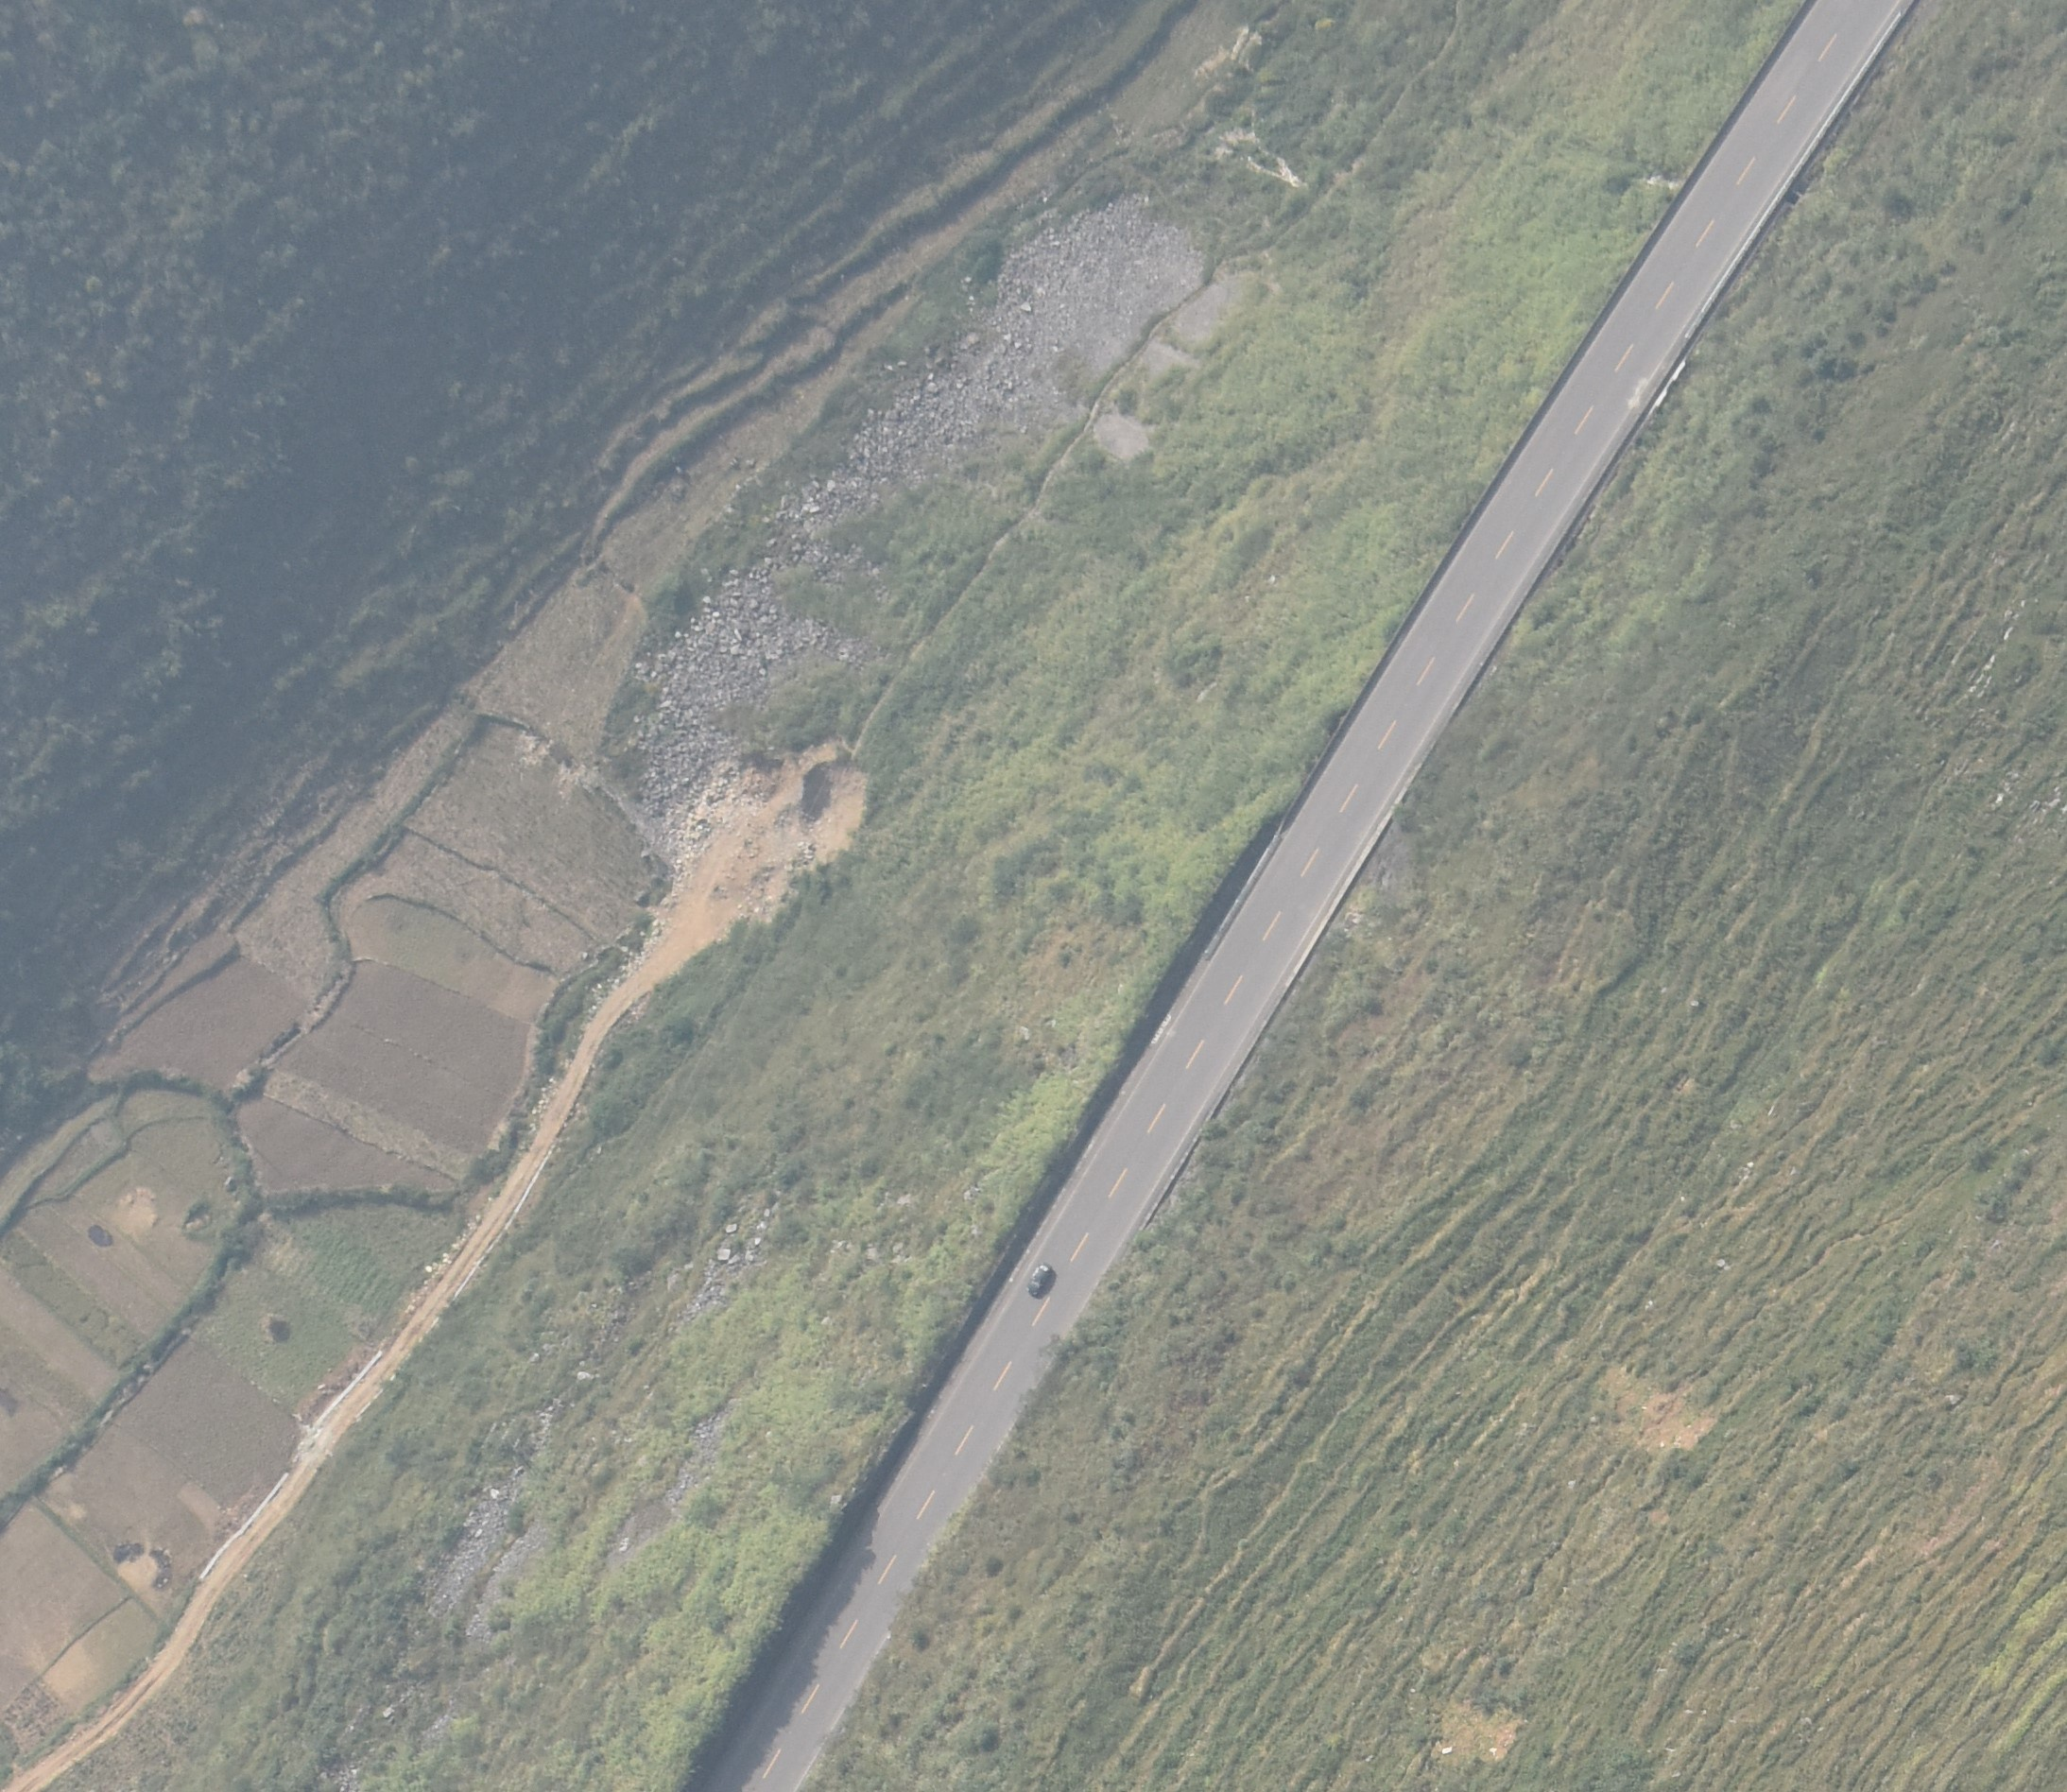quarry: (598, 190, 1211, 859)
vehicle: (1026, 1263, 1056, 1300)
